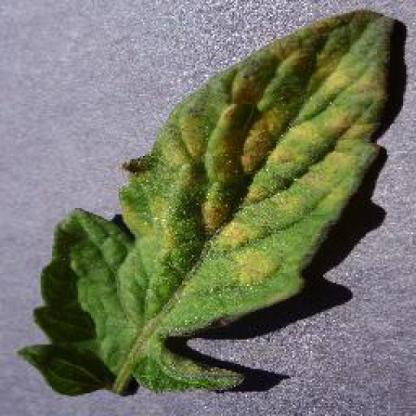Tomato_Leaf_Mold: (52, 13, 398, 337)
